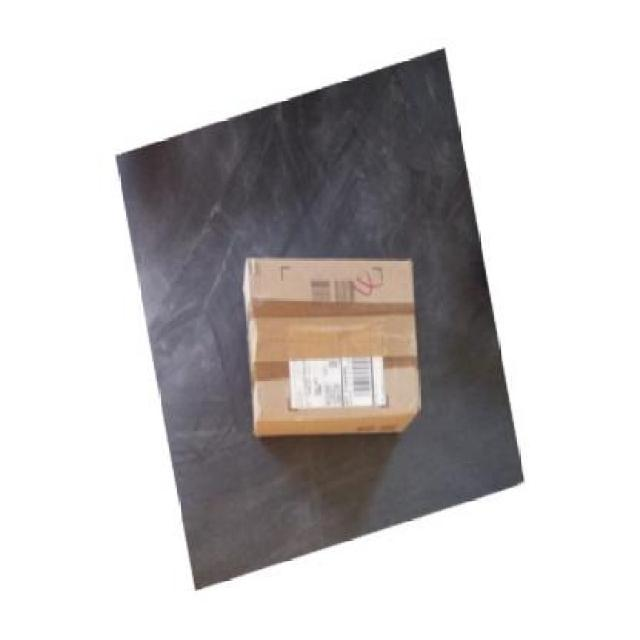cardboxes: (241, 257, 419, 435)
